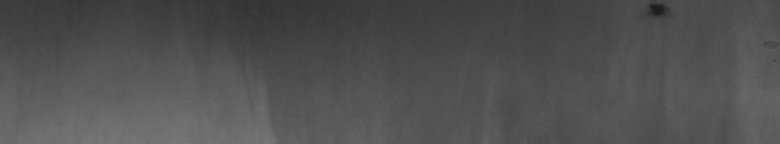fi: (644, 4, 672, 24)
